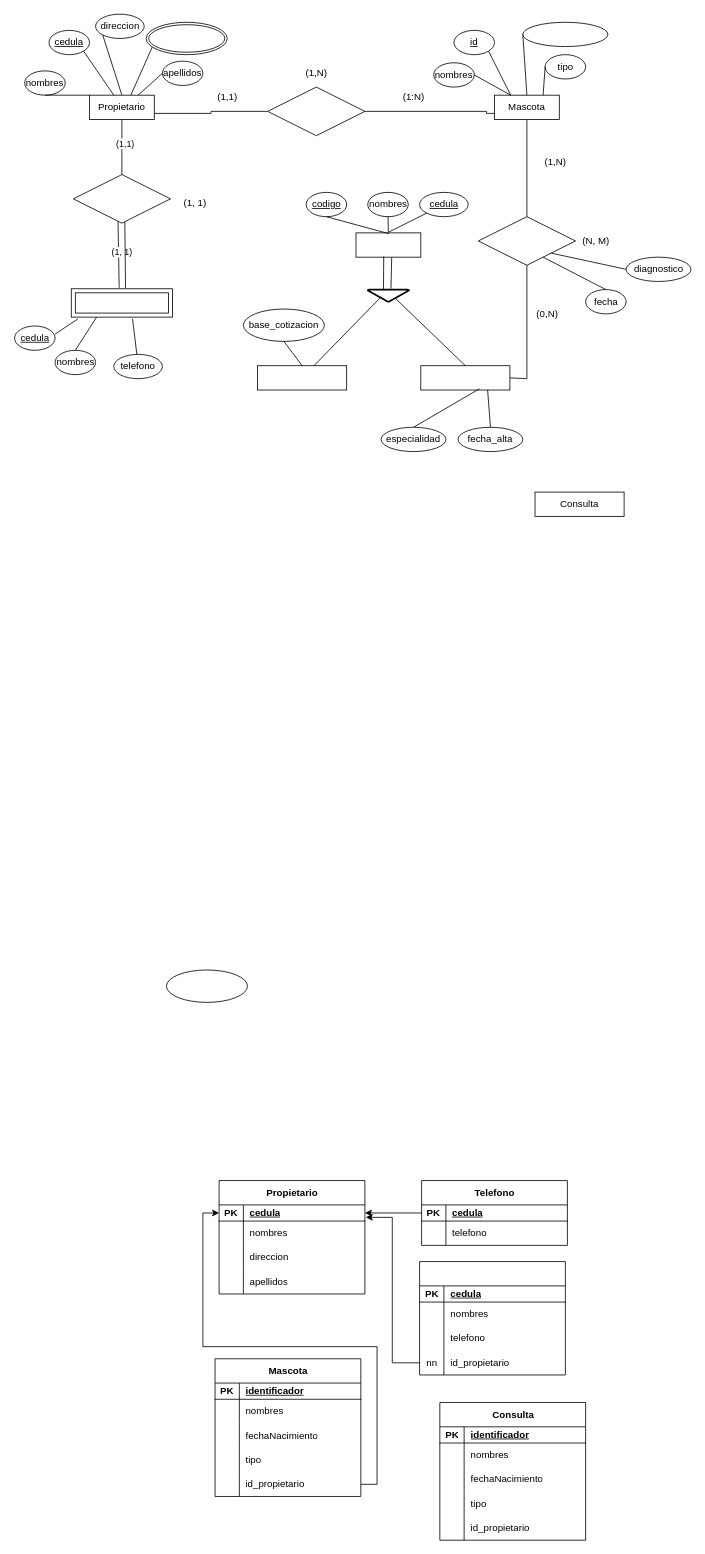
The diagram is 705 pixels wide and 1554 high, and some of its shapes have lost their labels. Each missing label, with the box of its shape:
Attribute: (166, 969, 247, 1002)
Auxiliar: (257, 365, 347, 390)
Familiar de contacto: (419, 1261, 565, 1375)
Familiar_Contacto: (70, 288, 173, 317)
fecha_nacimiento: (522, 21, 608, 47)
lleva: (267, 86, 365, 136)
pasa consulta: (477, 216, 576, 265)
Personal: (355, 232, 421, 257)
telefonos: (145, 21, 227, 55)
tiene: (72, 174, 171, 223)
Veterinario: (420, 365, 510, 390)
